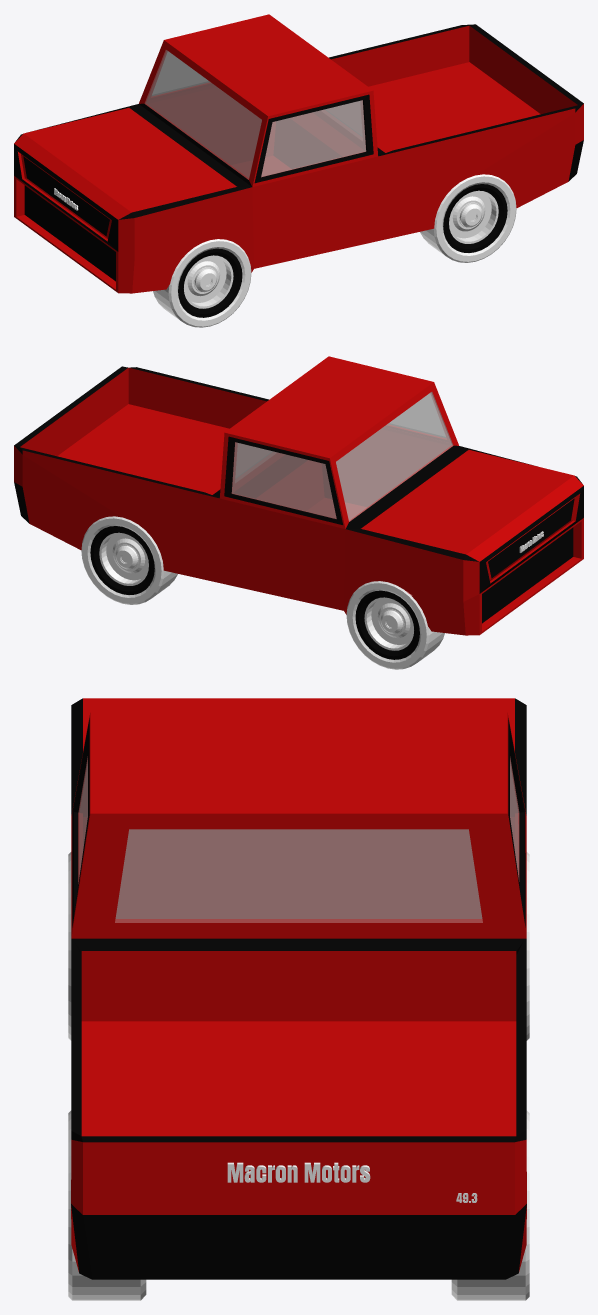
Rendered from Pickup.obj.
3 views of the same model, one above another, from view 1: azimuth 30°, elevation 25°; view 2: azimuth 150°, elevation 25°; view 3: azimuth 270°, elevation 25° (orthographic). The views are drawn at different scales.
Parts seen in each view (by area): view 1: Plane, Wheels.001, Wheels; view 2: Plane, Wheels.001, Wheels; view 3: Plane, Wheels.001, Back_name.
Part boxes in pixels (x1,y1,x2,y2): Plane: [14, 14, 583, 293]; Wheels.001: [153, 174, 516, 327]; Wheels: [178, 184, 507, 317]; Plane: [14, 356, 583, 635]; Wheels.001: [81, 516, 444, 669]; Wheels: [90, 526, 419, 659]; Plane: [71, 698, 526, 1279]; Wheels.001: [68, 852, 529, 1300]; Back_name: [227, 1162, 370, 1182].
Bounding box in the file's own units: 11.38 × 4.46 × 4.87.
